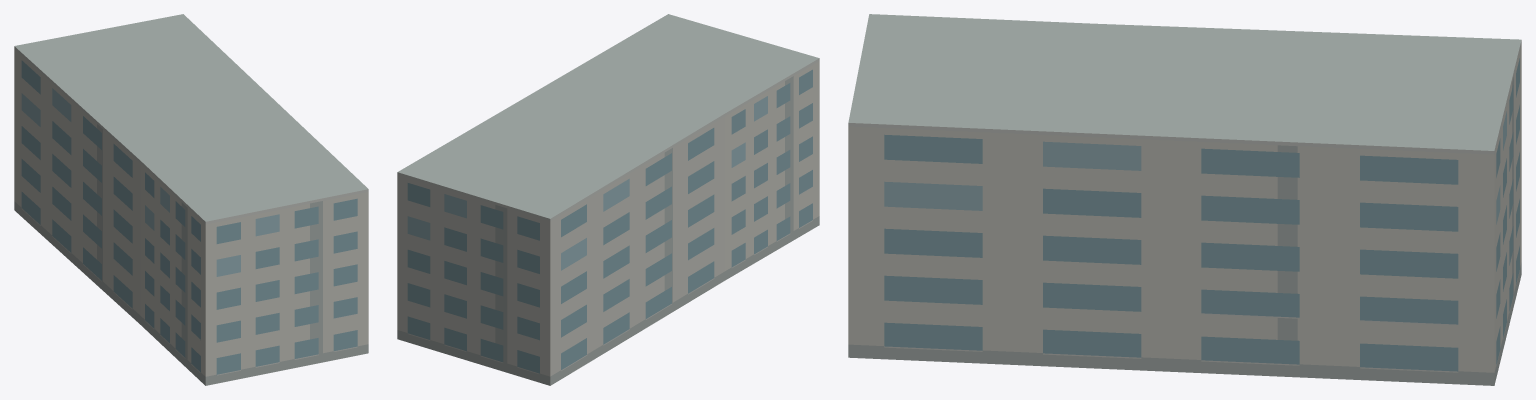
The model's file is survey-upis-32768020.glb.
The picture shows the model from 3 angles, left to right: view 1: azimuth 30°, elevation 25°; view 2: azimuth 150°, elevation 25°; view 3: azimuth 270°, elevation 25°; orthographic projection. The views are drawn at different scales.
Parts seen in each view (by area): view 1: survey-upis-32768020.tmp; view 2: survey-upis-32768020.tmp; view 3: survey-upis-32768020.tmp.
Part boxes in pixels (x1,y1,x2,y2): survey-upis-32768020.tmp: [14, 14, 368, 385]; survey-upis-32768020.tmp: [397, 14, 819, 385]; survey-upis-32768020.tmp: [848, 14, 1521, 385].
Size of the model in its own units: 19.1 by 15.25 by 39.63.
